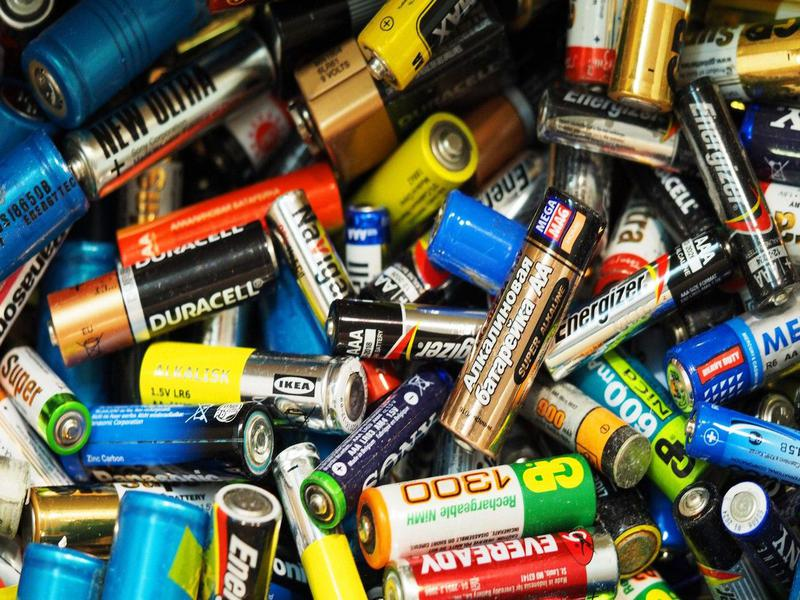battery: (436, 182, 614, 458), (36, 212, 290, 372), (52, 34, 278, 204), (666, 74, 797, 321), (347, 451, 600, 572), (83, 389, 280, 481), (384, 527, 632, 600), (322, 292, 485, 364), (1, 344, 95, 461)
